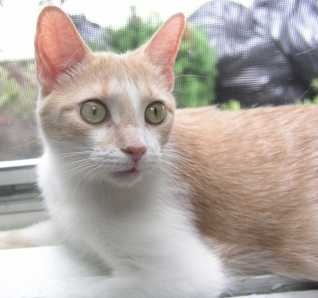Cat: (35, 6, 317, 292)
